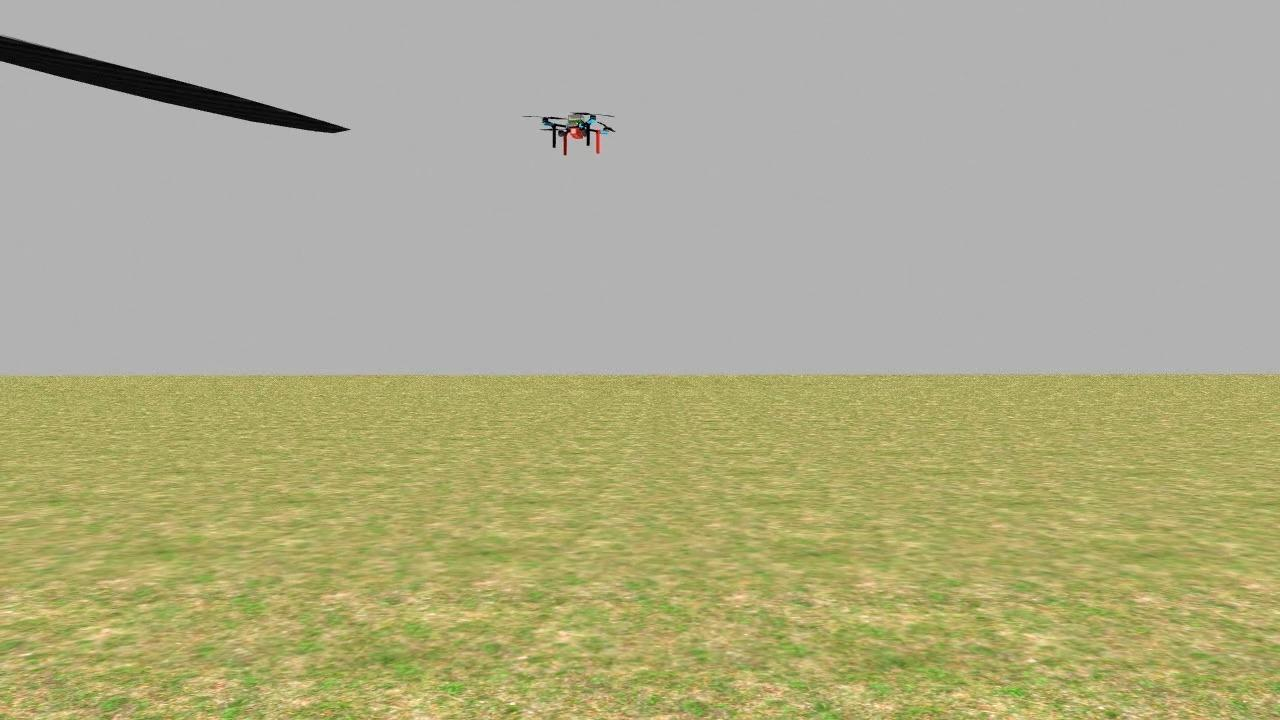UAV: (533, 99, 619, 168)
